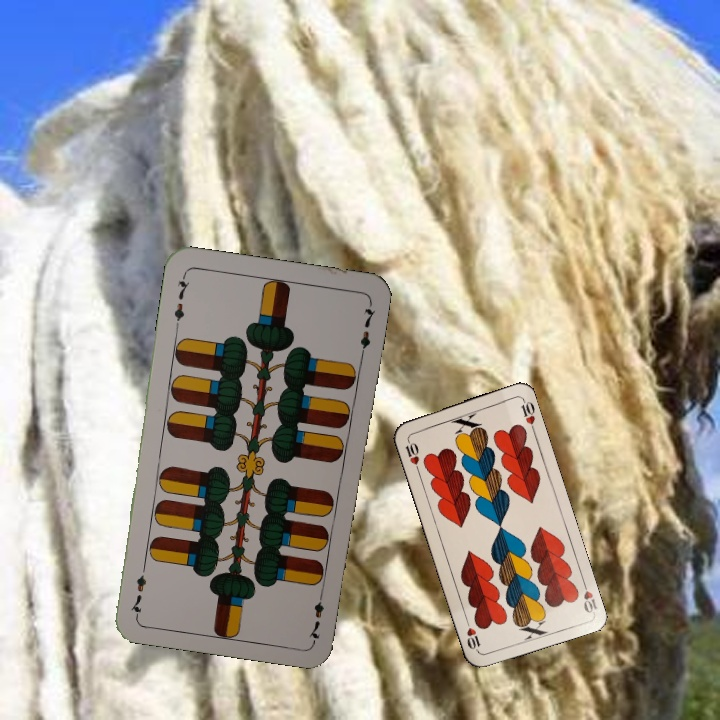E7: (170, 270, 192, 330), (305, 584, 327, 643)
H10: (578, 575, 600, 616), (401, 434, 422, 474)
